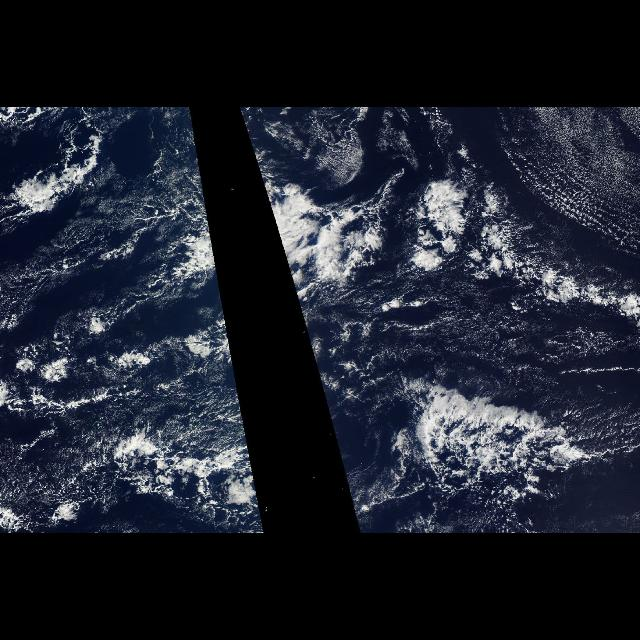Fish: (322, 144, 638, 348), (354, 351, 604, 503), (46, 371, 268, 525)
Gravel: (438, 424, 530, 530)
Sugar: (442, 108, 640, 500), (156, 382, 238, 454), (4, 450, 88, 506), (324, 130, 368, 183)
